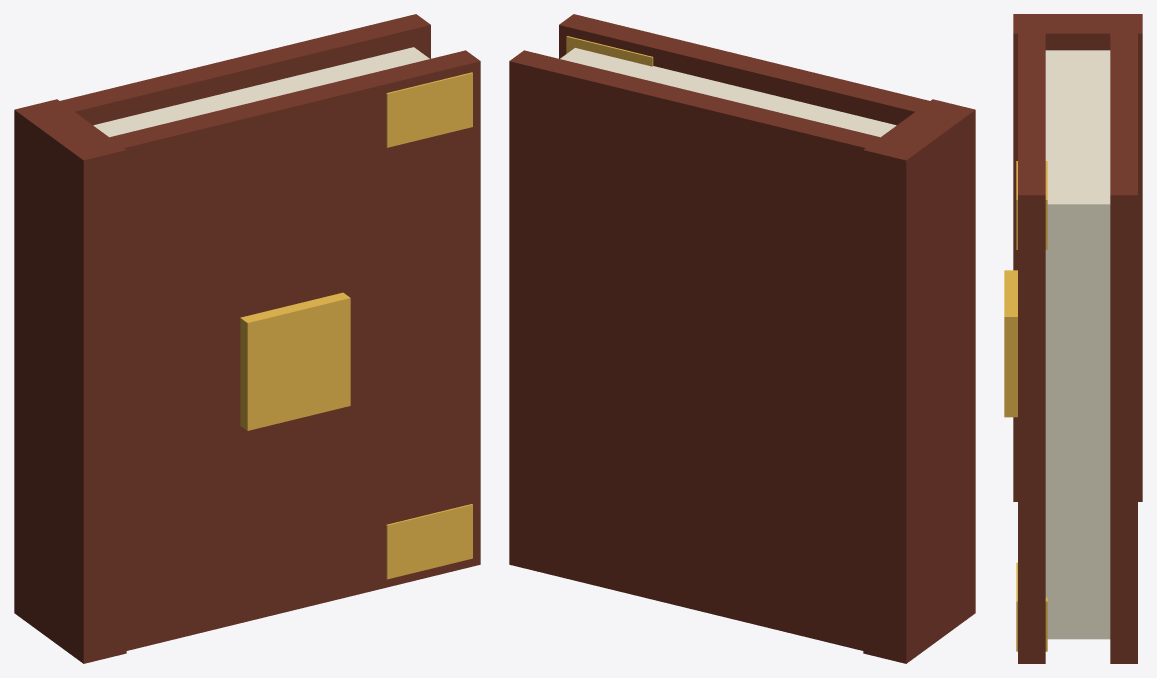
File: offhand_spellbook_t1.glb
The picture shows the model from 3 angles, left to right: view 1: azimuth 30°, elevation 25°; view 2: azimuth 150°, elevation 25°; view 3: azimuth 270°, elevation 25°; orthographic projection. The views are drawn at different scales.
Parts seen in each view (by area): view 1: bookCover_bookCover1, item_bookCover1, bookCover_bookTrim1, bookPages_pages; view 2: item_bookCover1, bookCover_bookCover1, bookPages_pages, bookCover_bookTrim1; view 3: bookPages_pages, item_bookCover1, bookCover_bookCover1, bookCover_bookTrim1.
Boxes of the visible parts, x1,y1,x2,y2 form: bookCover_bookCover1: [88, 50, 480, 650]; item_bookCover1: [14, 14, 430, 663]; bookCover_bookTrim1: [240, 72, 472, 579]; bookPages_pages: [93, 47, 429, 137]; item_bookCover1: [509, 50, 975, 663]; bookCover_bookCover1: [559, 14, 951, 125]; bookPages_pages: [560, 48, 896, 137]; bookCover_bookTrim1: [566, 36, 653, 66]; bookPages_pages: [1045, 50, 1110, 639]; item_bookCover1: [1013, 14, 1142, 663]; bookCover_bookCover1: [1018, 24, 1045, 663]; bookCover_bookTrim1: [1004, 161, 1047, 651].
Size of the model in its own units: 0.279 by 0.336 by 0.09.
